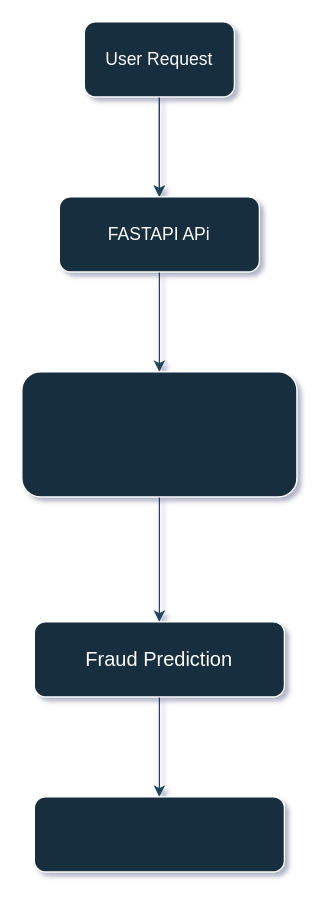
The diagram is 326 pixels wide and 901 high, and some of its shapes have lost their labels. The shapes that lost their labels are listed below. From the top down, each one's box as (x1, y1, x2, y2) in pixels, then its label:
(21, 371, 297, 497): Load Registered Model from DagsHub
(33, 796, 284, 872): JSON Response
